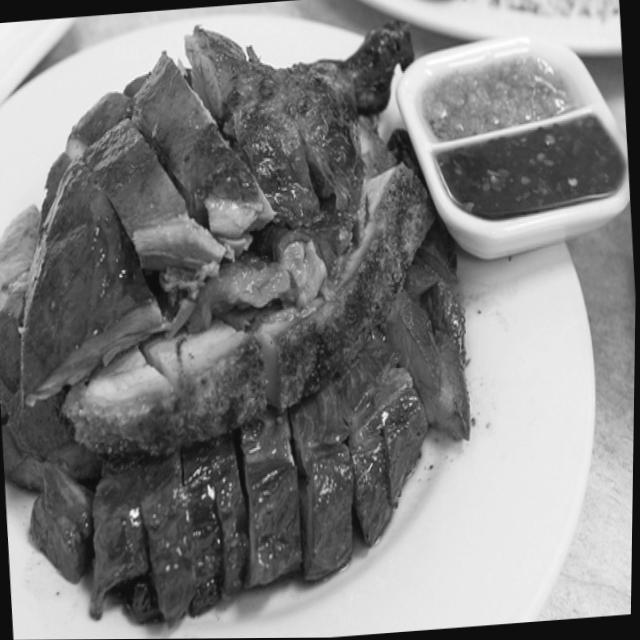烧串烤肉: (0, 9, 493, 632)
